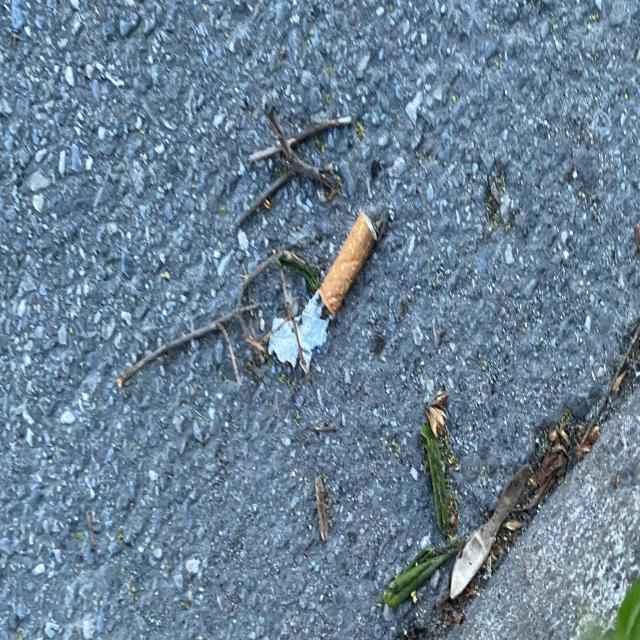other waste: (268, 210, 378, 374)
